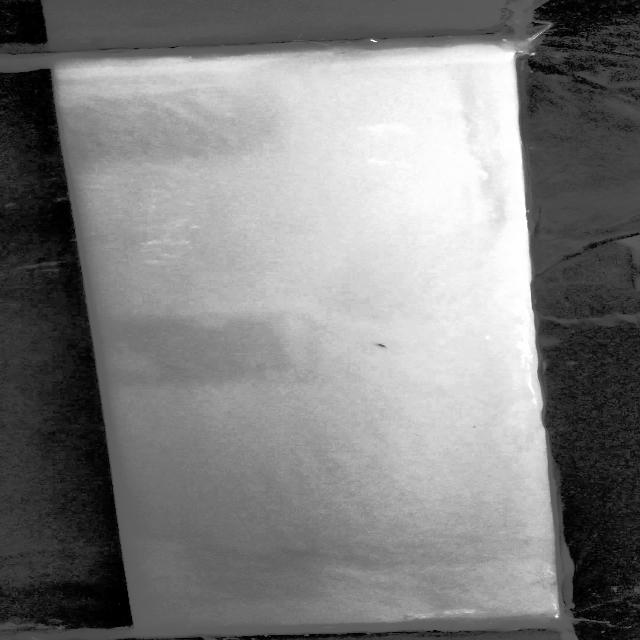shrimp: (355, 334, 403, 353)
